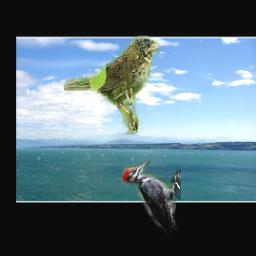Sparrow: (64, 36, 159, 135)
Woodpecker: (122, 160, 181, 235)
